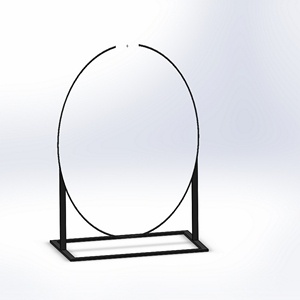circle: (47, 38, 210, 261)
